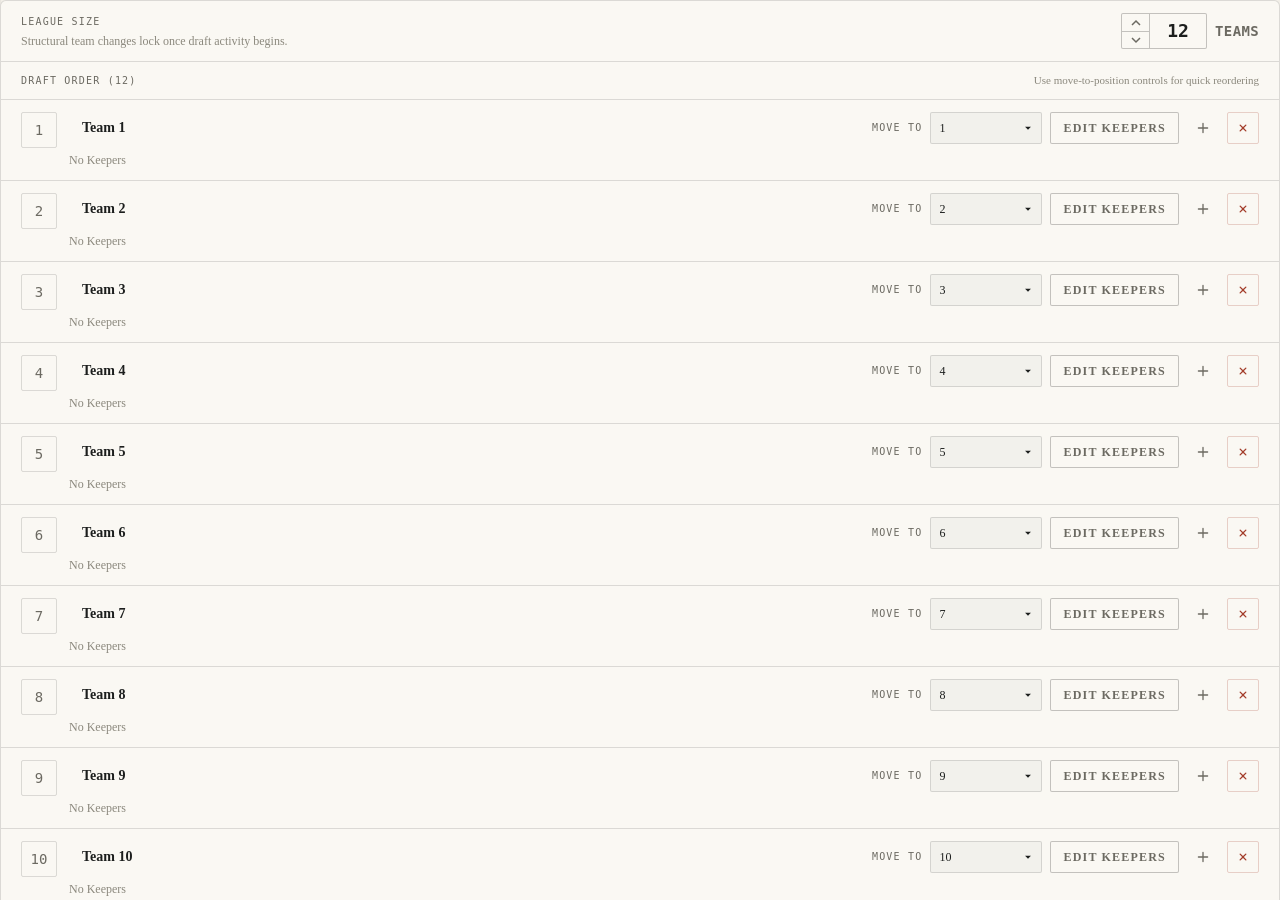
Test: settings sections › matches accented keeper names when the search omits accents
Click the button with aria-label "Show keepers for Team 1". click: click(1115, 128)
box: [1050,112,1179,144]
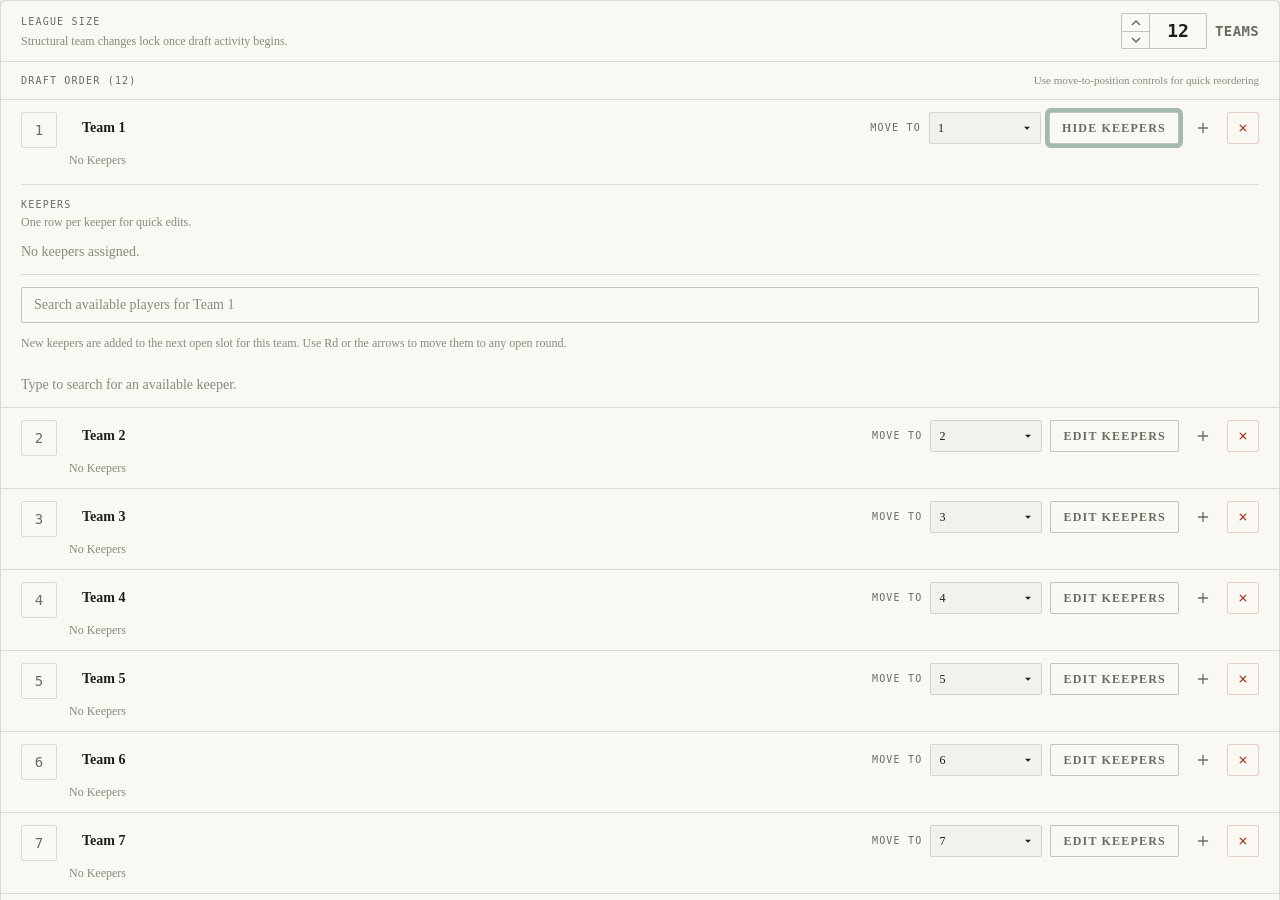
Type "jose berrios" into the field named "Search keepers for Team 1". click: (640, 304)
box: [21,286,1259,322]
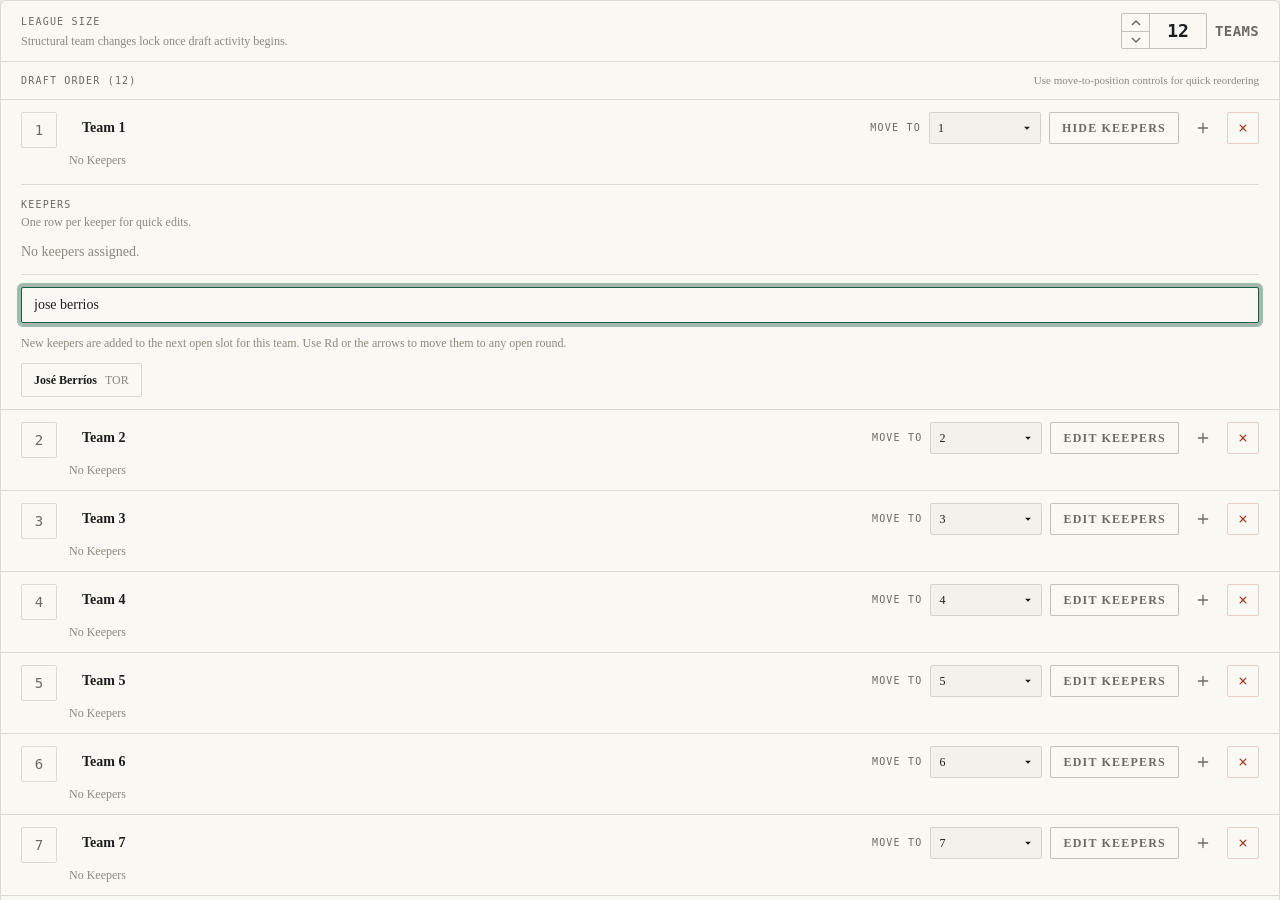
Now the button "José Berríos TOR" is shown, box [21,362,142,396]
